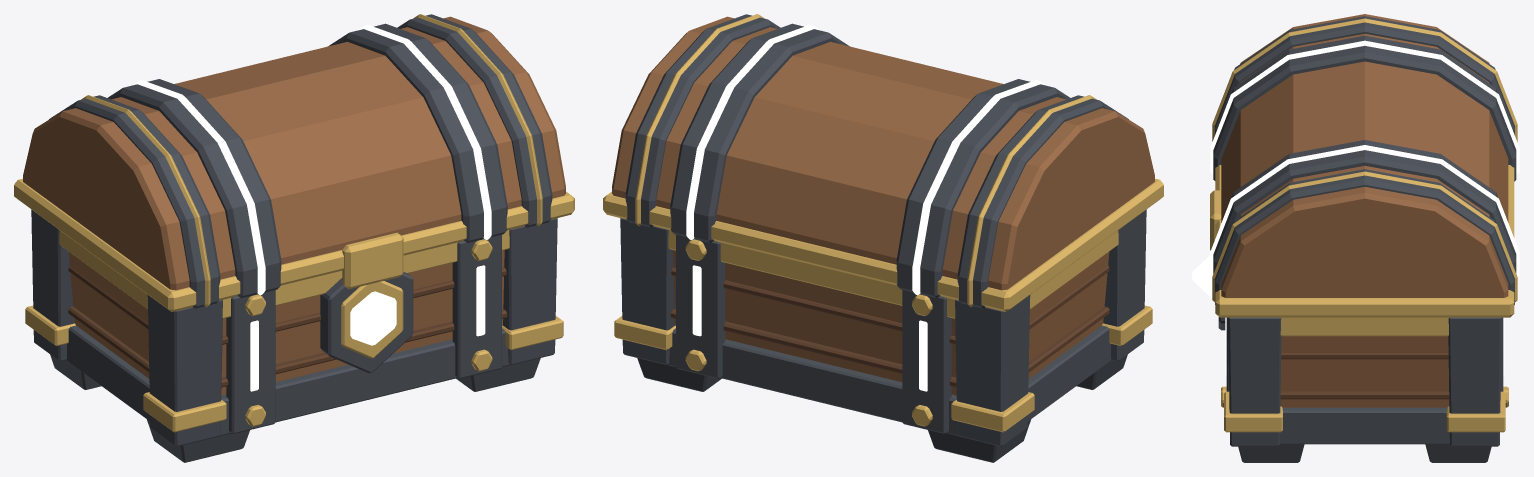
File: hoard_reward_chest.glb
3 views of the same model, side by side, from view 1: azimuth 30°, elevation 25°; view 2: azimuth 150°, elevation 25°; view 3: azimuth 270°, elevation 25° (orthographic). The views are drawn at different scales.
Parts seen in each view (by area): view 1: Chest_Lid, Chest_Base, Chest_Lock; view 2: Chest_Lid, Chest_Base; view 3: Chest_Lid, Chest_Base, Chest_Lock.
Part boxes in pixels (<box>): Chest_Lid: <box>14,14,574,311</box>; Chest_Base: <box>25,209,563,462</box>; Chest_Lock: <box>320,272,413,373</box>; Chest_Lid: <box>603,14,1163,311</box>; Chest_Base: <box>614,209,1152,462</box>; Chest_Lid: <box>1210,14,1519,317</box>; Chest_Base: <box>1221,317,1508,462</box>; Chest_Lock: <box>1192,255,1225,330</box>.
Size of the model in its own units: 1.65 by 1.19 by 1.22.
